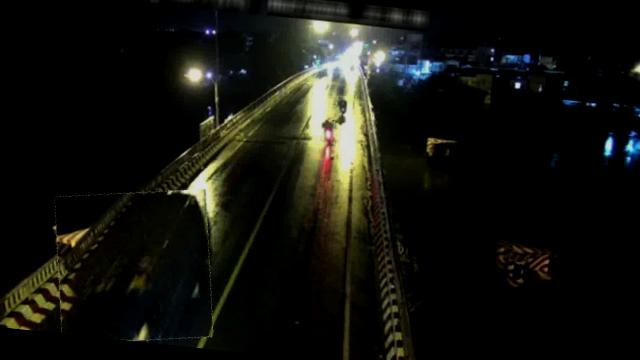Bike: (320, 119, 338, 148), (336, 96, 348, 115)
Truck: (46, 179, 222, 348)
